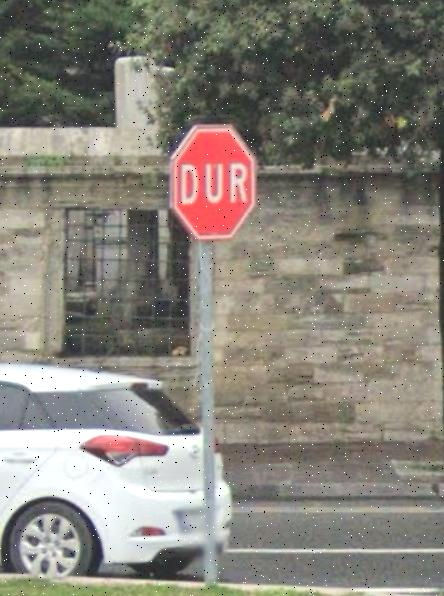stop: (170, 126, 258, 237)
